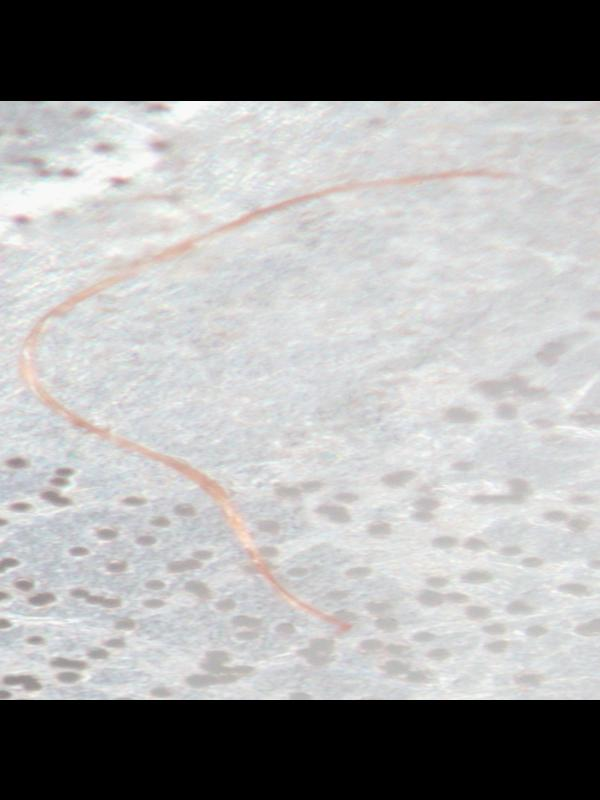microplastic: (14, 166, 520, 635)
